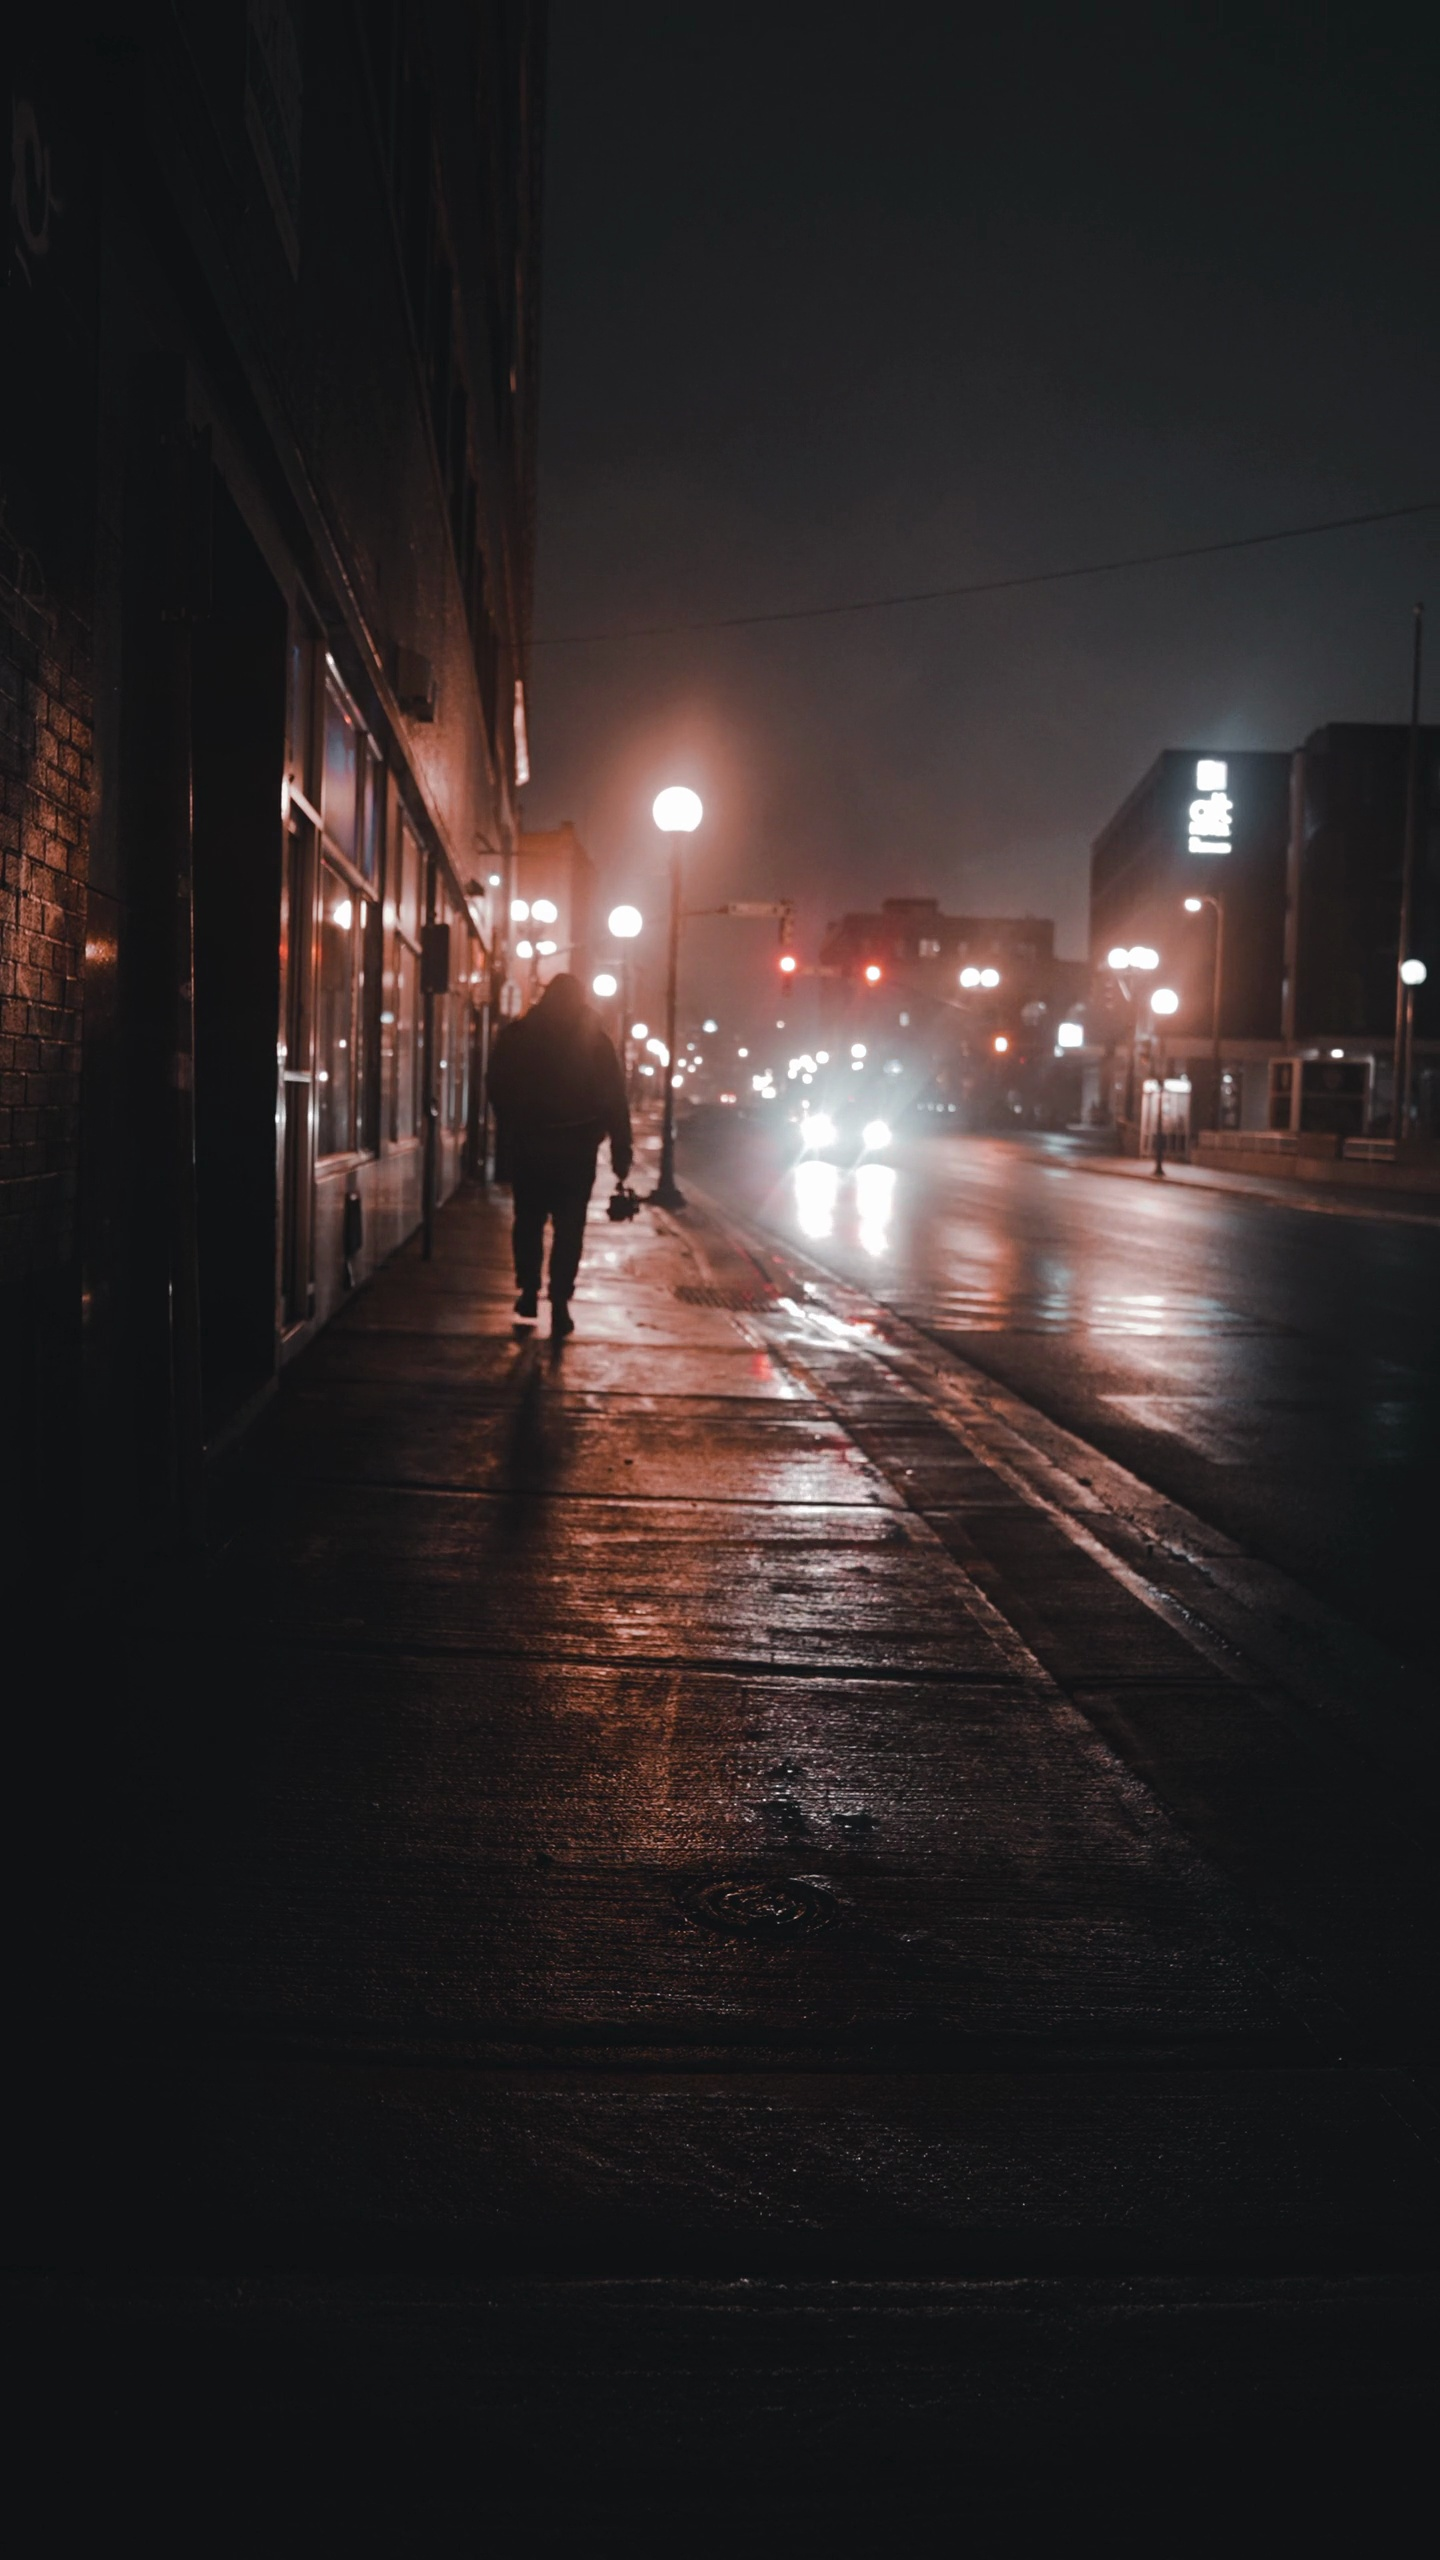person: (477, 988, 630, 1332)
